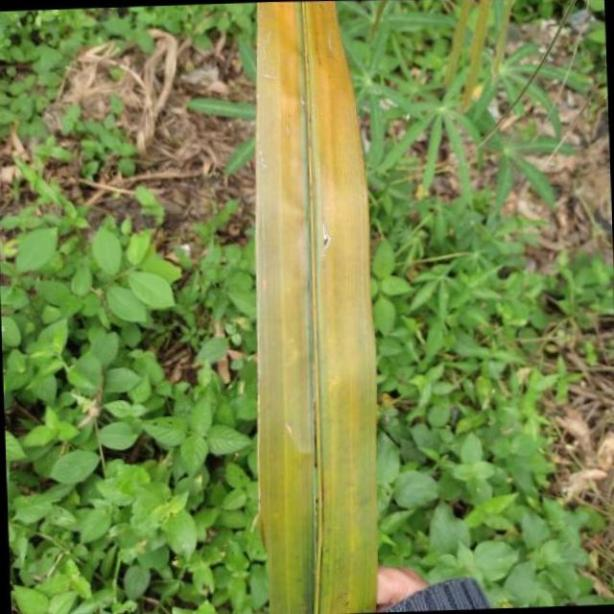Megnesium: (256, 0, 382, 614)
